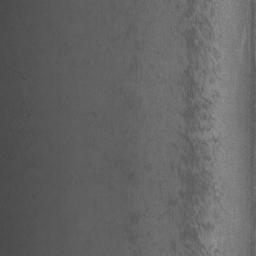Silk spot: (178, 0, 220, 179), (179, 204, 220, 256), (171, 164, 216, 209), (167, 198, 177, 220), (129, 213, 145, 224), (128, 55, 138, 72), (126, 24, 137, 37), (200, 114, 215, 122), (171, 241, 176, 254), (128, 173, 134, 180)
